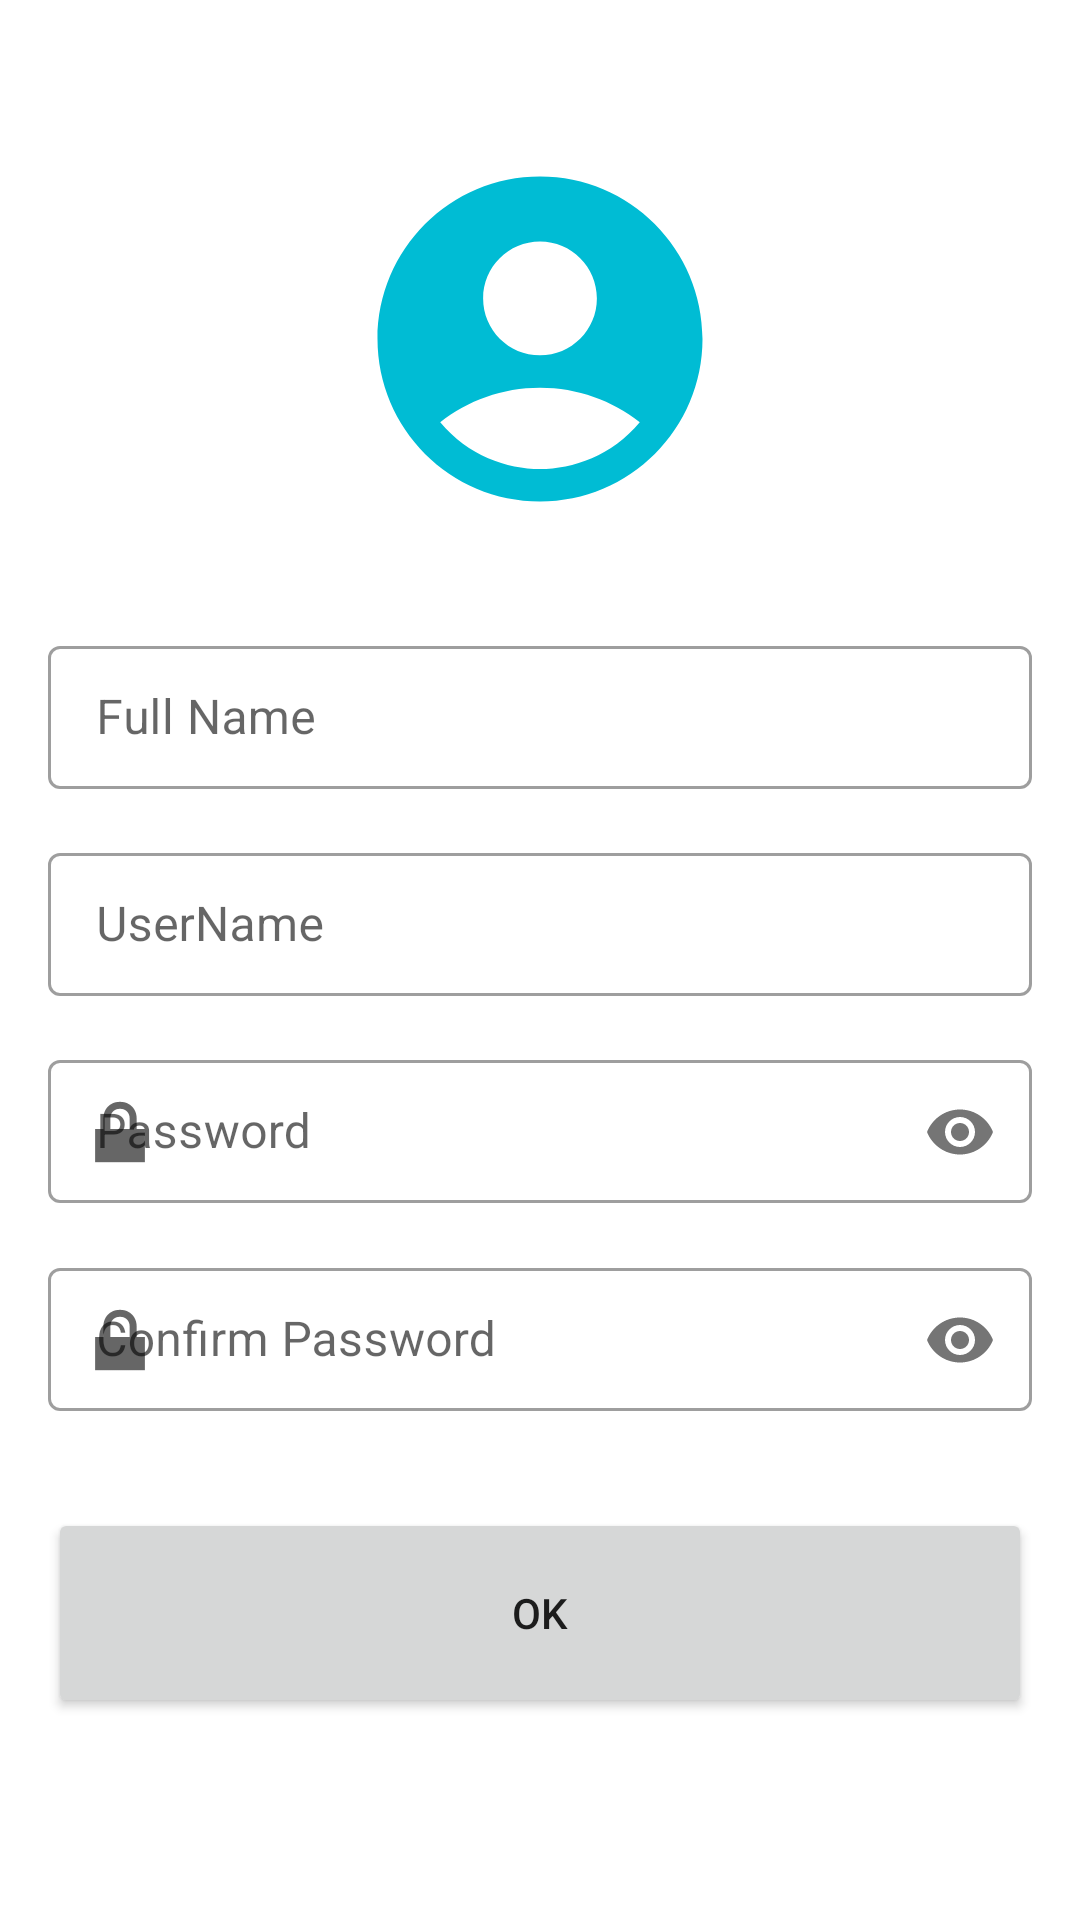

Locate icon controls on the screen. Image size 1080 × 1920, boxes as (x1, y1, x2, y2).
login user: (377, 176, 703, 502)
